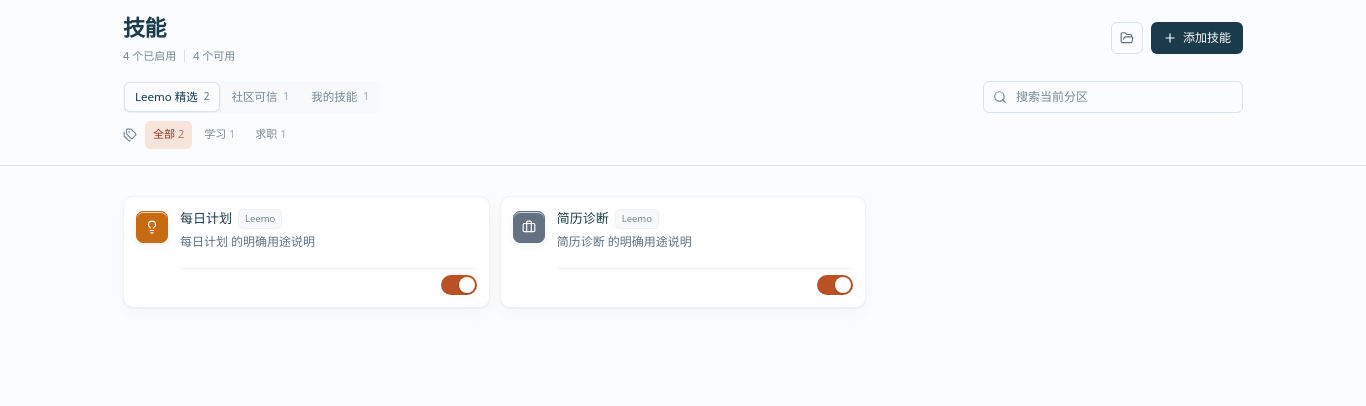
Test: SkillsPage — product-facing sections › keeps cards compact: name, source, and one purpose description
Click the tab "社区可信 1" at (260, 96), box [221,82,299,110]
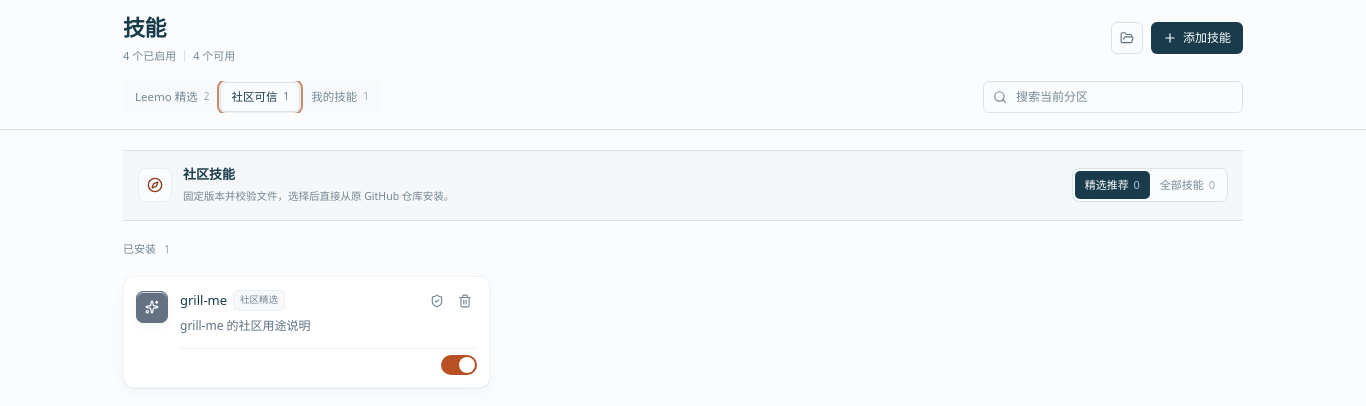
Expected: the text "grill-me 的社区用途说明" is shown, [180,316,311,334]
Expected: the text "社区精选" is shown, [233,290,285,311]
